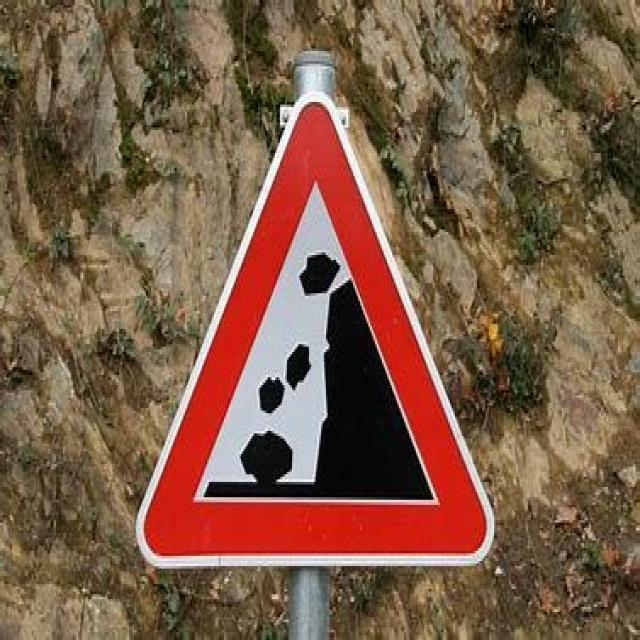FALLING_ROCKS: (144, 96, 488, 570)
